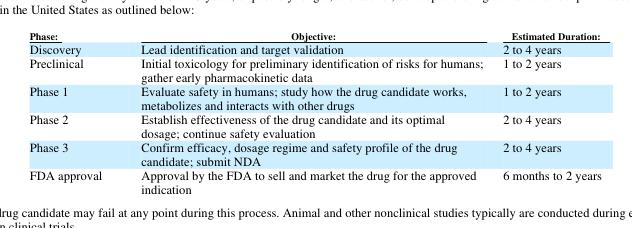table: (28, 28, 601, 196)
table column: (120, 28, 492, 196), (492, 28, 601, 196), (28, 28, 120, 196)
table column header: (28, 28, 601, 41)
table row: (28, 167, 601, 196), (28, 55, 601, 83), (28, 83, 601, 111), (28, 111, 601, 139), (28, 139, 601, 167), (28, 41, 601, 55), (28, 28, 601, 41)
